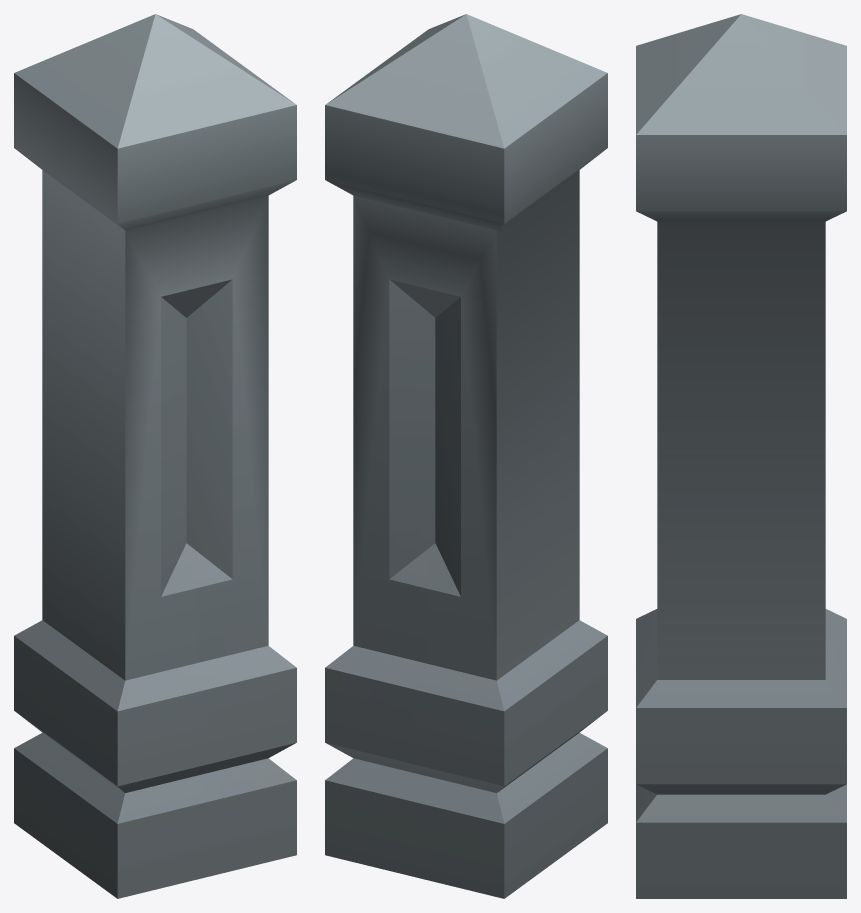
The model's file is pillar-kaylousberg.glb.
3 views of the same model, side by side, from view 1: azimuth 30°, elevation 25°; view 2: azimuth 150°, elevation 25°; view 3: azimuth 270°, elevation 25° (orthographic).
Parts seen in each view (by area): view 1: pillar; view 2: pillar; view 3: pillar.
Boxes of the visible parts, box(x1,y1,x2,y2) form: pillar: box(14, 14, 296, 898); pillar: box(325, 14, 607, 898); pillar: box(636, 14, 846, 898).
Bounding box in the file's own units: 1 × 4.4 × 1.
1 material, 1 textured.
